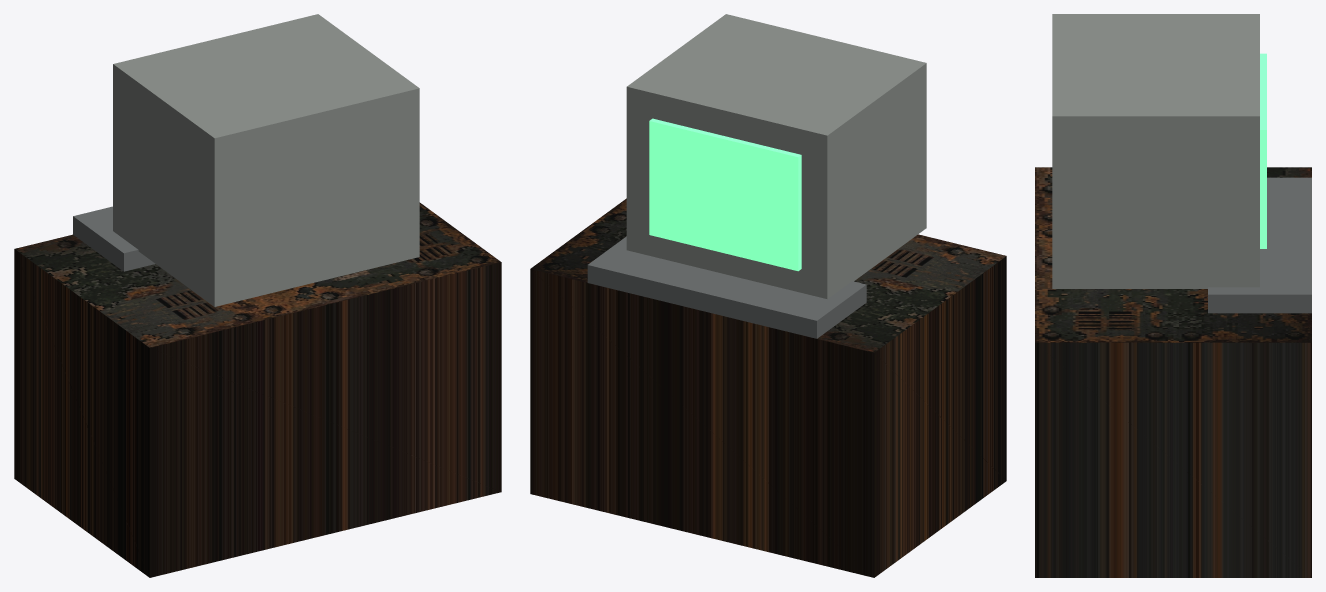
The model's file is crt_terminal.glb.
3 views of the same model, side by side, from view 1: azimuth 30°, elevation 25°; view 2: azimuth 150°, elevation 25°; view 3: azimuth 270°, elevation 25° (orthographic). The views are drawn at different scales.
Visible parts, largest first — view 1: CRTTerminal; view 2: CRTTerminal; view 3: CRTTerminal.
Boxes of the visible parts, left/top/right/bottom form: CRTTerminal: left=14, top=14, right=501, bottom=577; CRTTerminal: left=530, top=14, right=1006, bottom=577; CRTTerminal: left=1035, top=14, right=1311, bottom=577.
Bounding box in the file's own units: 1.2 × 1.36 × 0.8.
4 materials, 1 textured.
